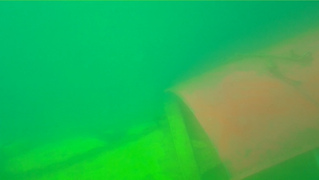leak: (167, 25, 319, 179)
pipe: (1, 100, 225, 180), (242, 145, 319, 179)
